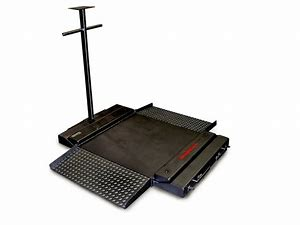Industrial Scale: (49, 5, 232, 210)
